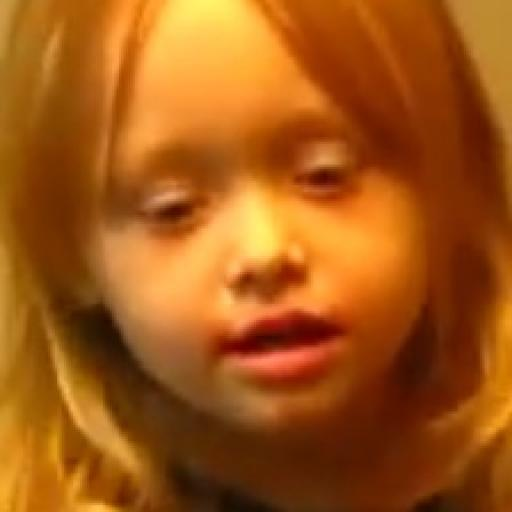Autism: (58, 7, 498, 486)
